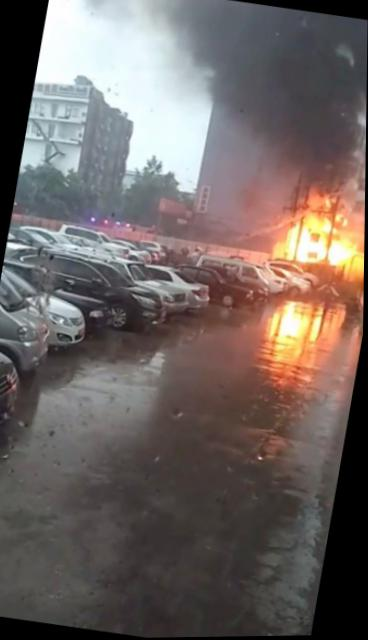fire: (279, 301, 312, 342), (330, 237, 358, 268), (303, 214, 334, 235), (311, 305, 326, 344), (285, 223, 301, 259), (297, 232, 313, 266), (267, 309, 283, 341), (318, 235, 331, 261)
